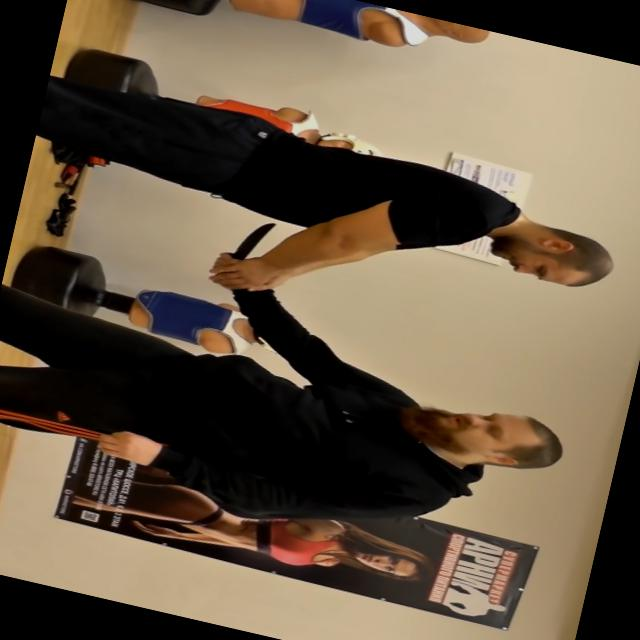knife: (203, 209, 281, 297)
